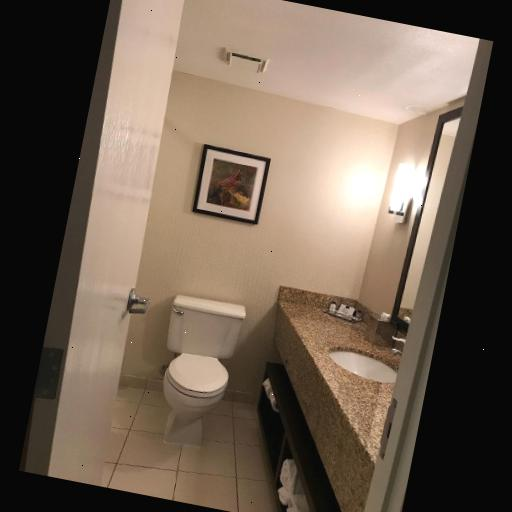clean_floor: (100, 387, 287, 512)
clean_sink: (272, 285, 402, 512)
clean_toilet: (126, 278, 264, 454)
